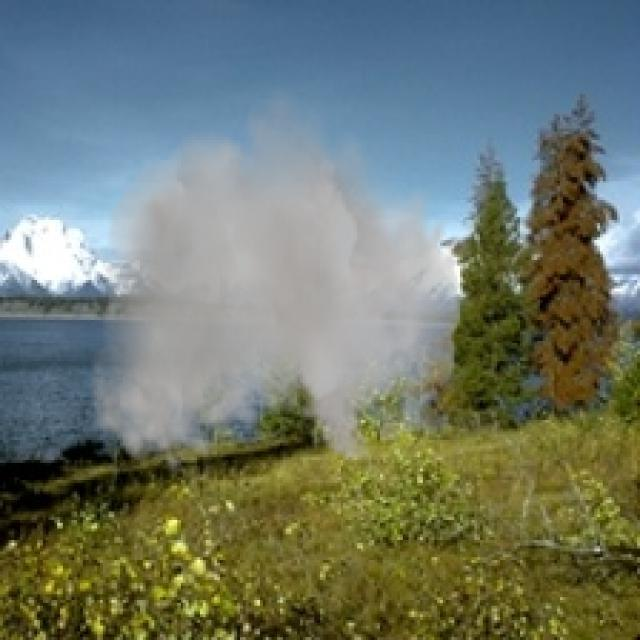Smoke: (88, 80, 460, 474)
